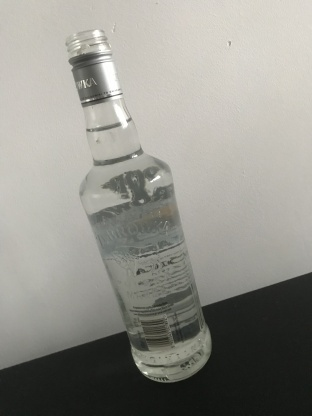nakretka: (63, 26, 124, 110)
